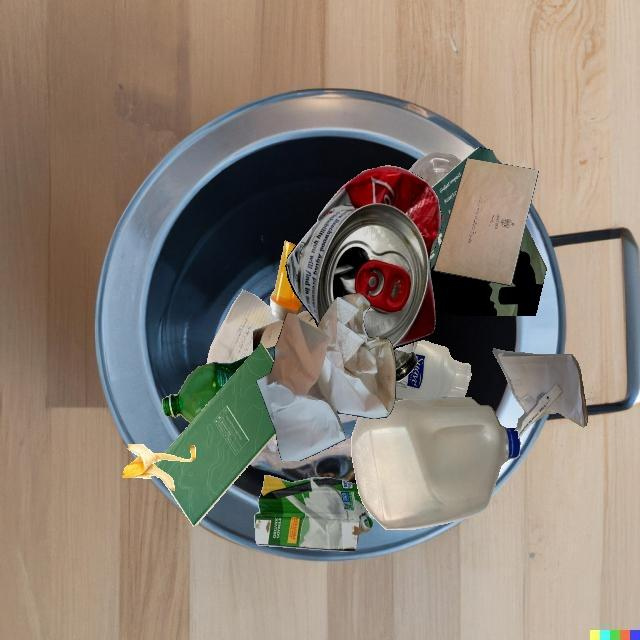biowaste: (122, 444, 196, 491)
cardboard: (254, 475, 373, 552), (439, 226, 442, 232)
glass: (253, 320, 284, 352), (393, 349, 417, 382), (296, 311, 318, 328)
metal: (286, 165, 441, 350)
paper: (256, 293, 396, 461), (154, 344, 276, 526), (430, 147, 547, 316), (434, 158, 538, 286), (492, 348, 588, 438), (206, 290, 281, 364)
plastic: (351, 397, 520, 530), (162, 355, 250, 423), (394, 340, 471, 401), (270, 240, 302, 321), (408, 152, 462, 188), (394, 341, 418, 352)
